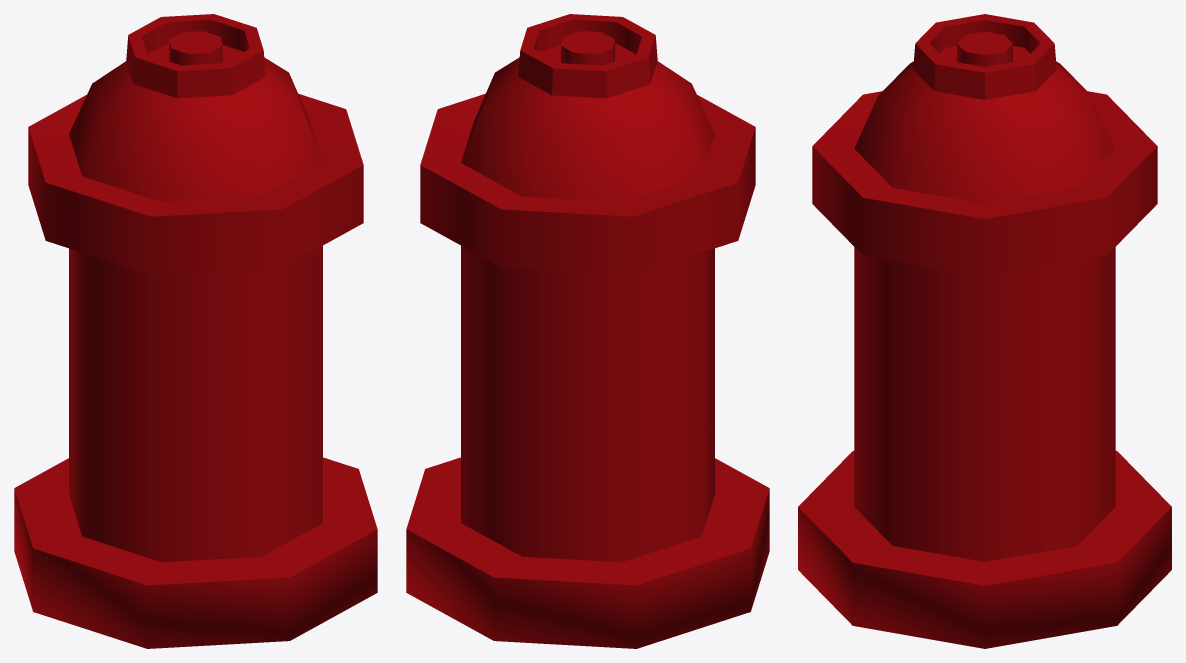
Rendered from Hydrant1.glb.
3 renders of one model, left to right at view 1: azimuth 30°, elevation 25°; view 2: azimuth 150°, elevation 25°; view 3: azimuth 270°, elevation 25°, orthographic.
Visible parts, largest first — view 1: Cylinder.009; view 2: Cylinder.009; view 3: Cylinder.009.
Boxes of the visible parts, x1,y1,x2,y2 form: Cylinder.009: (14, 14, 377, 648); Cylinder.009: (406, 14, 769, 648); Cylinder.009: (798, 14, 1171, 648).
Bounding box in the file's own units: 2.57 × 4 × 2.57.
